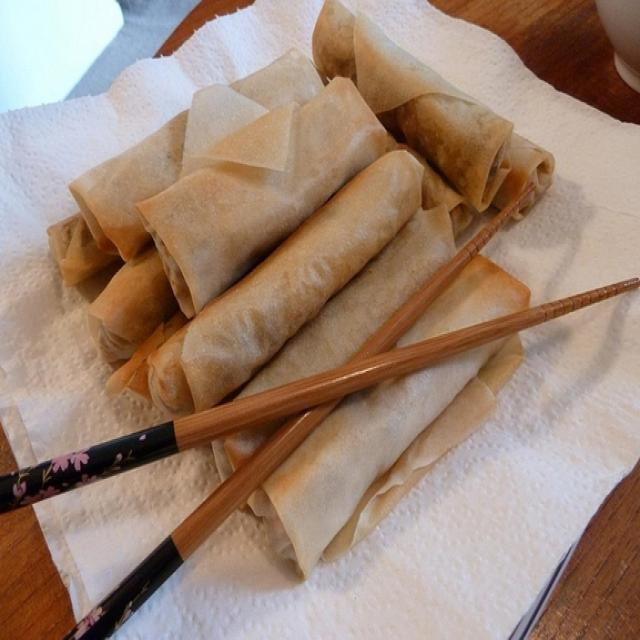炸货点心: (20, 24, 603, 602)
